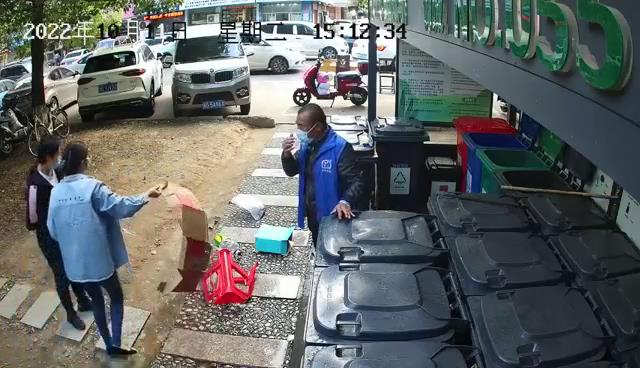person: (24, 135, 94, 333)
suliaozhipin: (199, 246, 260, 306), (229, 192, 266, 221)
worker: (45, 141, 162, 358), (280, 103, 366, 251)
zhizhipin: (160, 181, 212, 295), (253, 222, 295, 258)
